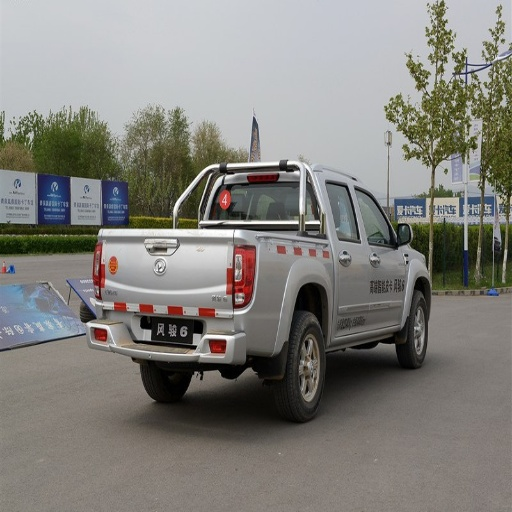back_bumper: (94, 308, 245, 362)
back_right_door: (321, 178, 371, 336)
trunk: (103, 219, 330, 355)
